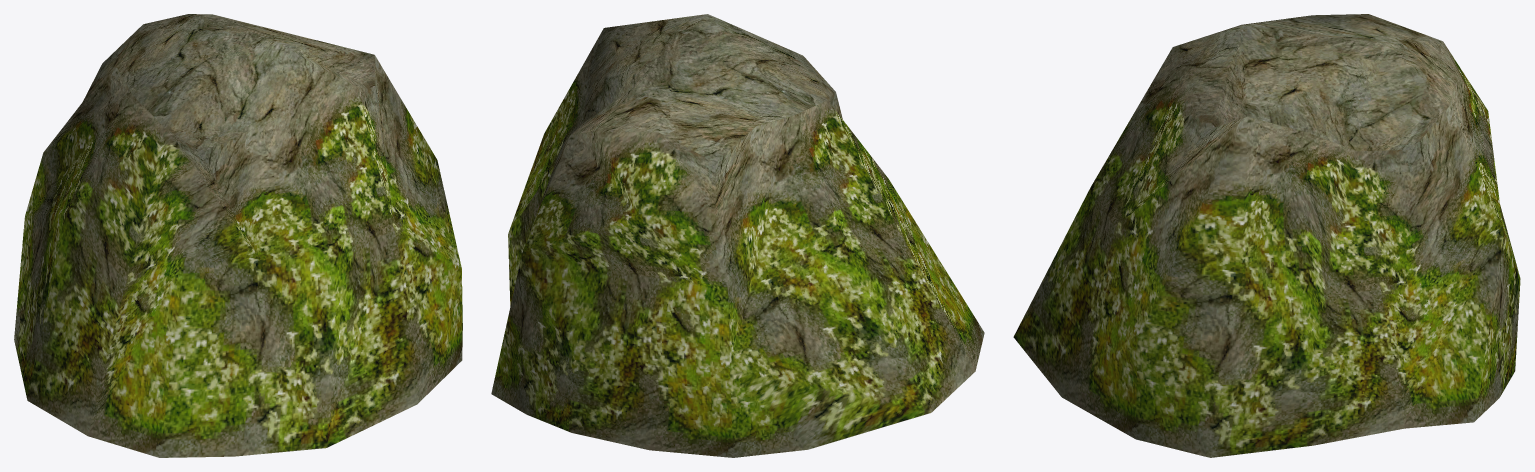
The model's file is rock_liaaba_covered_a1_l2.fbx.
The picture shows the model from 3 angles, left to right: view 1: azimuth 30°, elevation 25°; view 2: azimuth 150°, elevation 25°; view 3: azimuth 270°, elevation 25°; orthographic projection. The views are drawn at different scales.
Parts seen in each view (by area): view 1: mesh_node; view 2: mesh_node; view 3: mesh_node.
Boxes of the visible parts, x1,y1,x2,y2 form: mesh_node: [14, 14, 462, 457]; mesh_node: [491, 14, 984, 457]; mesh_node: [1013, 14, 1520, 457].
Size of the model in its own units: 4.25 by 3.16 by 4.24.
